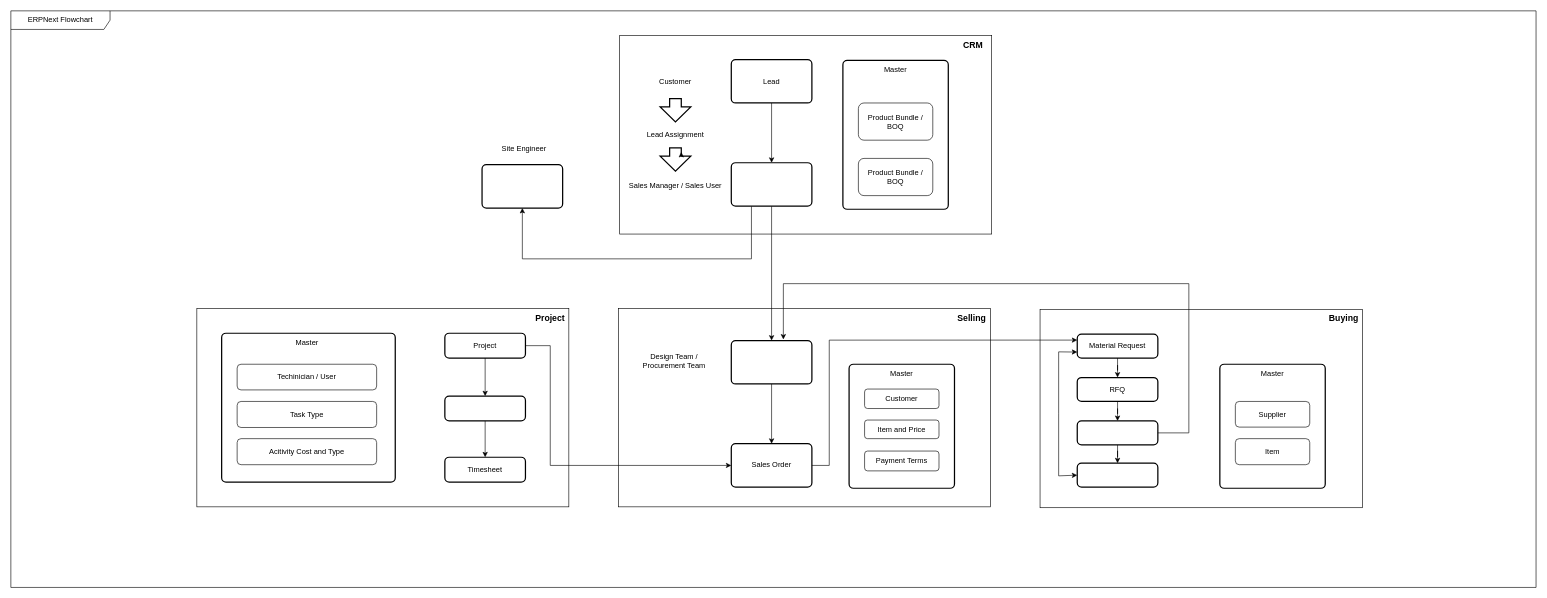
The diagram is 1547 pixels wide and 598 high, and some of its shapes have lost their labels. The shapes that lost their labels are listed below. From the top down, each one's centre as x and y in pixels, then its label:
At point (522, 186): "Site Visit".
At point (771, 184): "Lead as Opportunity".
At point (771, 362): "Quotation".
At point (485, 408): "Task".
At point (1117, 432): "Supplier Quotation".
At point (1117, 474): "Purchase Order".
